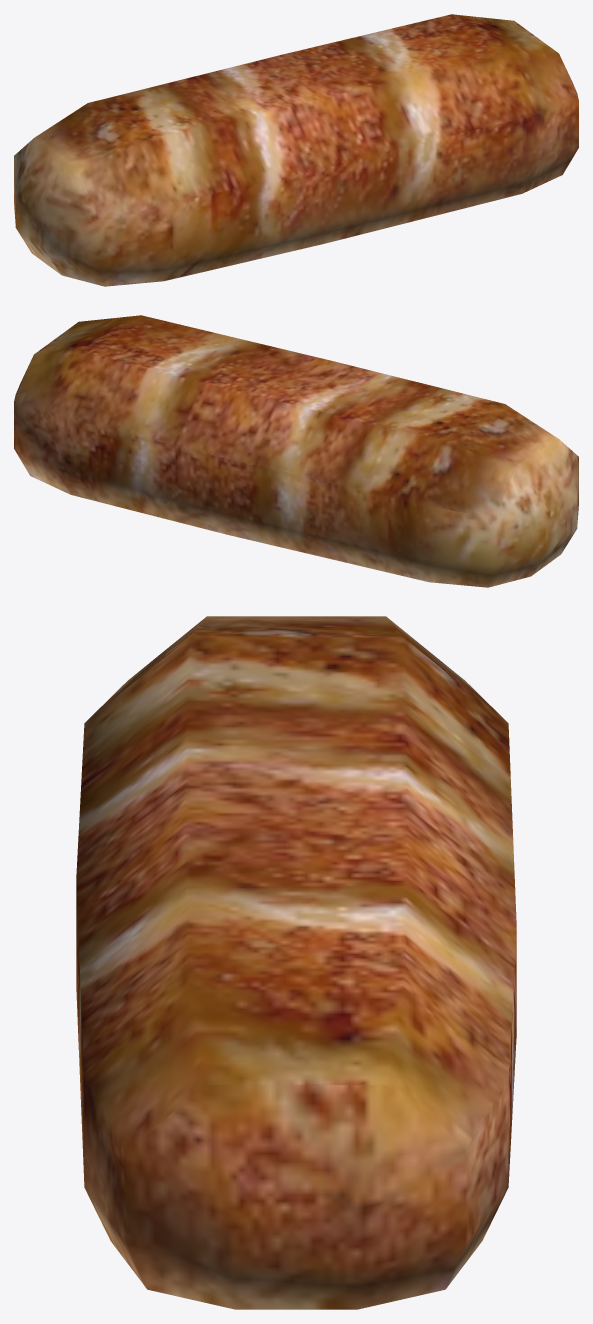
File: BreadSmall.glb
3 renders of one model, top to bottom at view 1: azimuth 30°, elevation 25°; view 2: azimuth 150°, elevation 25°; view 3: azimuth 270°, elevation 25°, orthographic. The views are drawn at different scales.
Visible parts, largest first — view 1: Bread_01; view 2: Bread_01; view 3: Bread_01.
Part boxes in pixels (x1,y1,x2,y2): Bread_01: (14, 14, 578, 286); Bread_01: (14, 315, 578, 587); Bread_01: (76, 616, 516, 1309).
Bounding box in the file's own units: 0.4147 × 0.0939 × 0.1496.
Materials: 1 (1 with a texture image).
